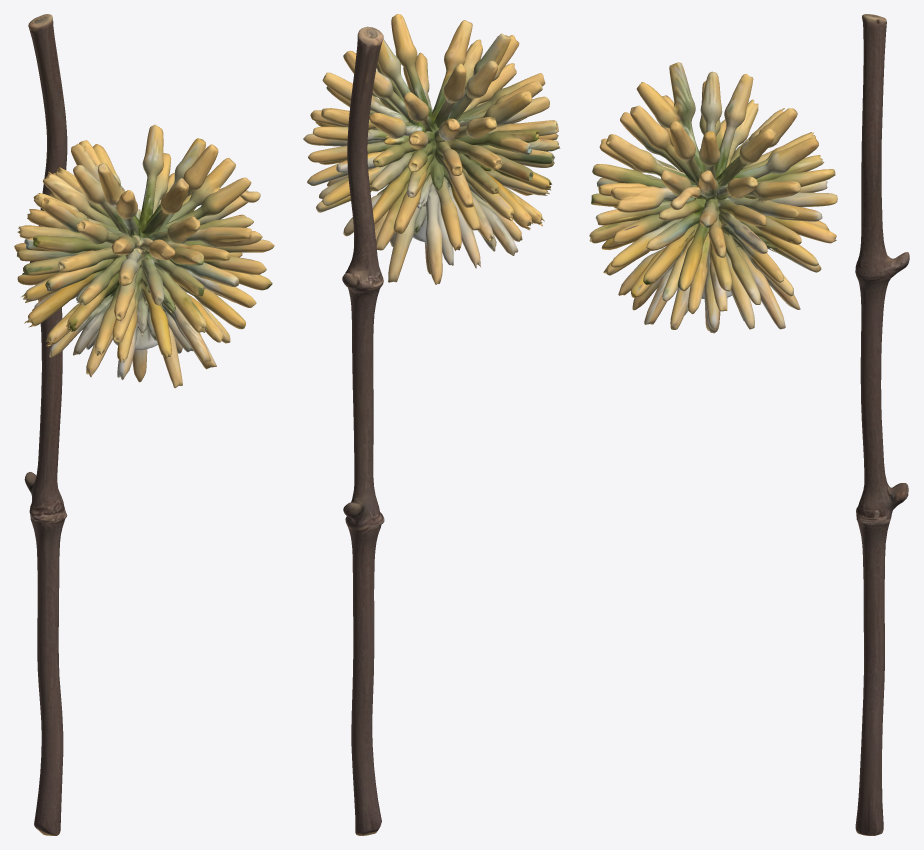
File: jiexiang.glb
The picture shows the model from 3 angles, left to right: view 1: azimuth 30°, elevation 25°; view 2: azimuth 150°, elevation 25°; view 3: azimuth 270°, elevation 25°; orthographic projection.
Visible parts, largest first — view 1: node_0; view 2: node_0; view 3: node_0.
Boxes of the visible parts, x1=… form: node_0: x1=14, y1=14, x2=274, y2=835; node_0: x1=303, y1=14, x2=560, y2=835; node_0: x1=589, y1=14, x2=909, y2=835.
Bounding box in the file's own units: 0.3285 × 1.15 × 0.409.
Materials: 1 (1 with a texture image).
